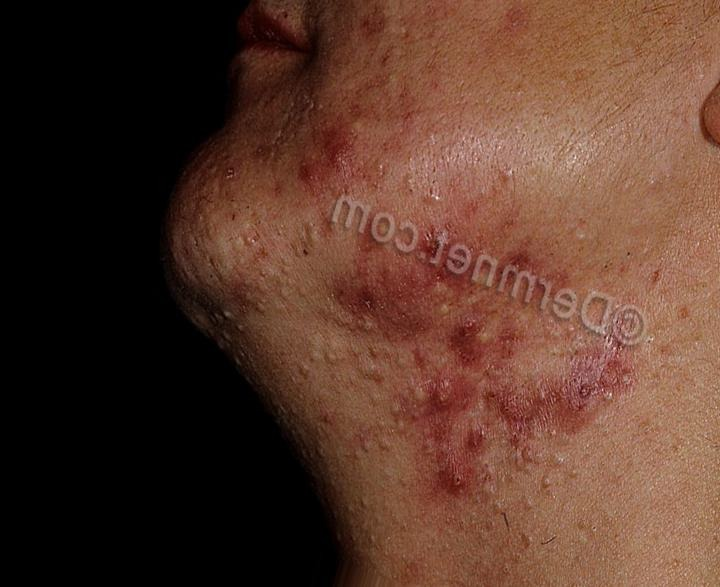Acne: (189, 22, 638, 517)
